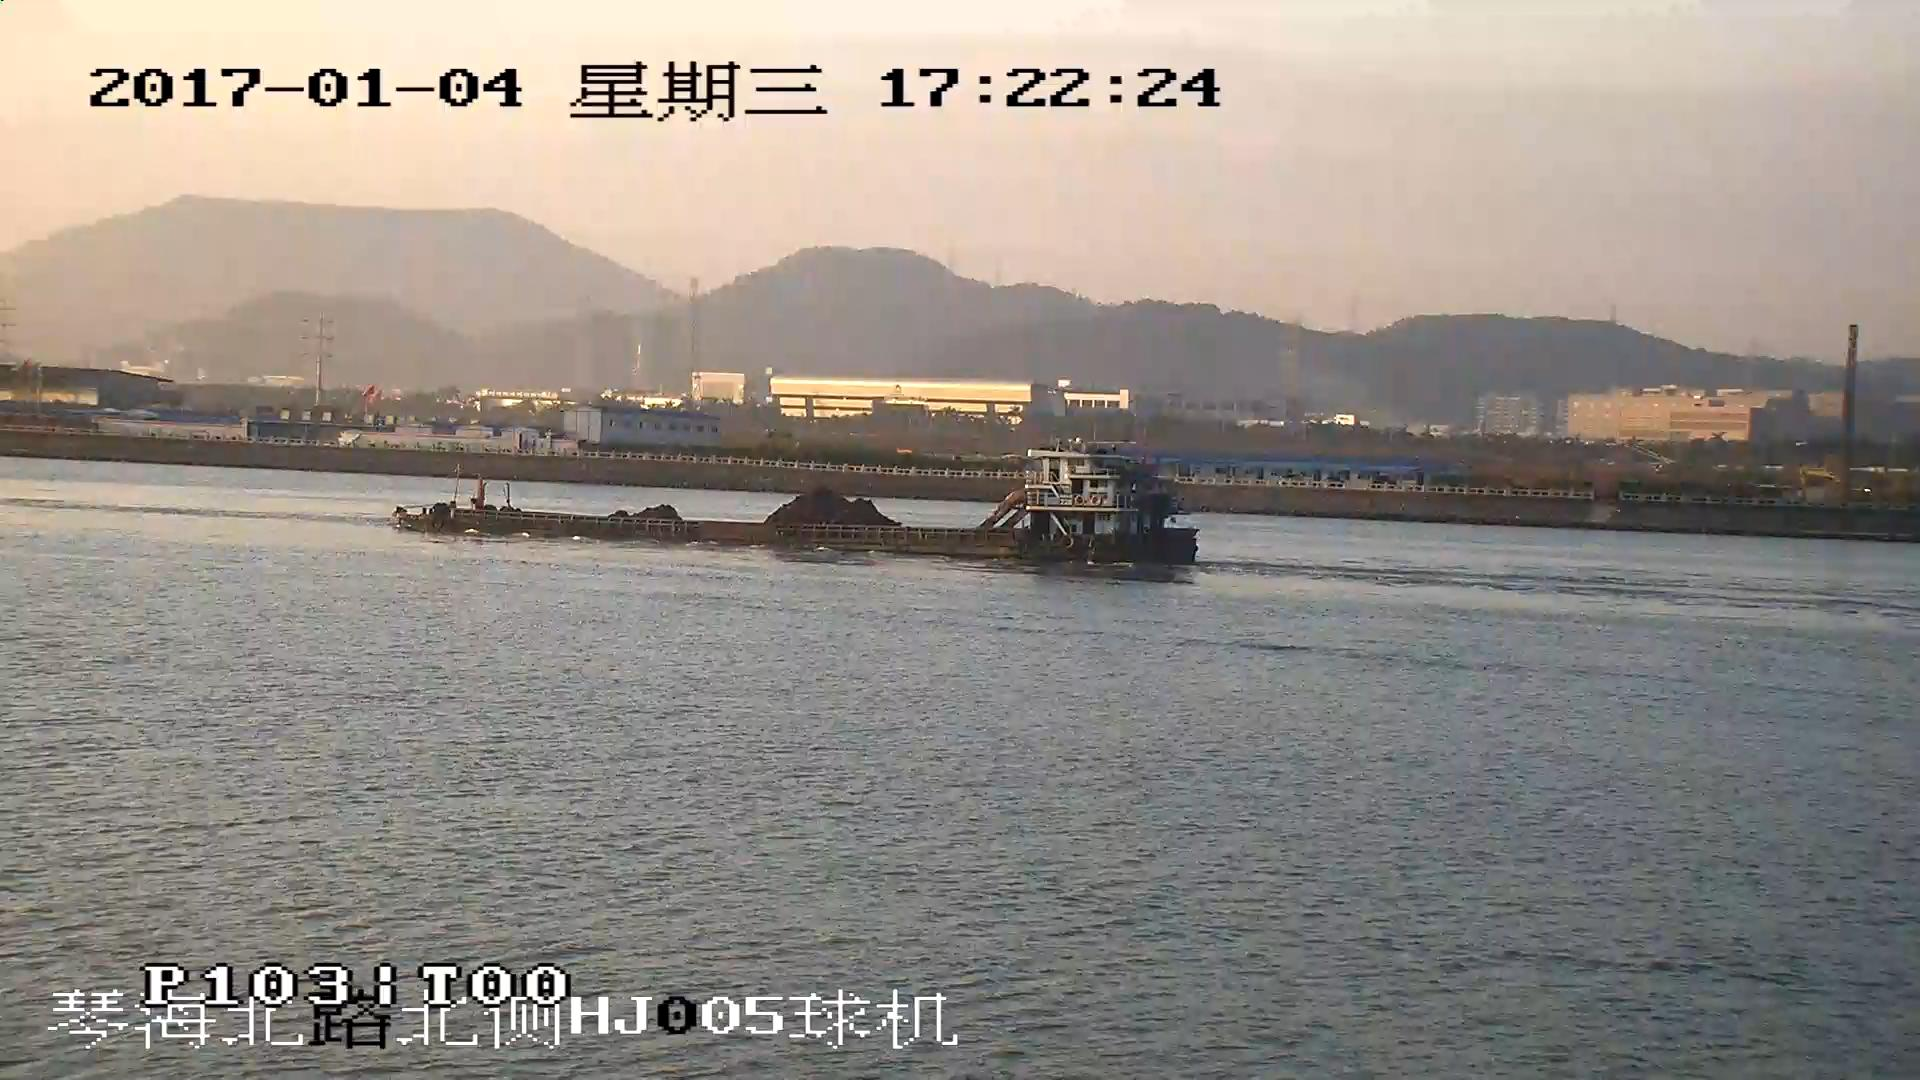ore carrier: (391, 445, 1197, 565)
